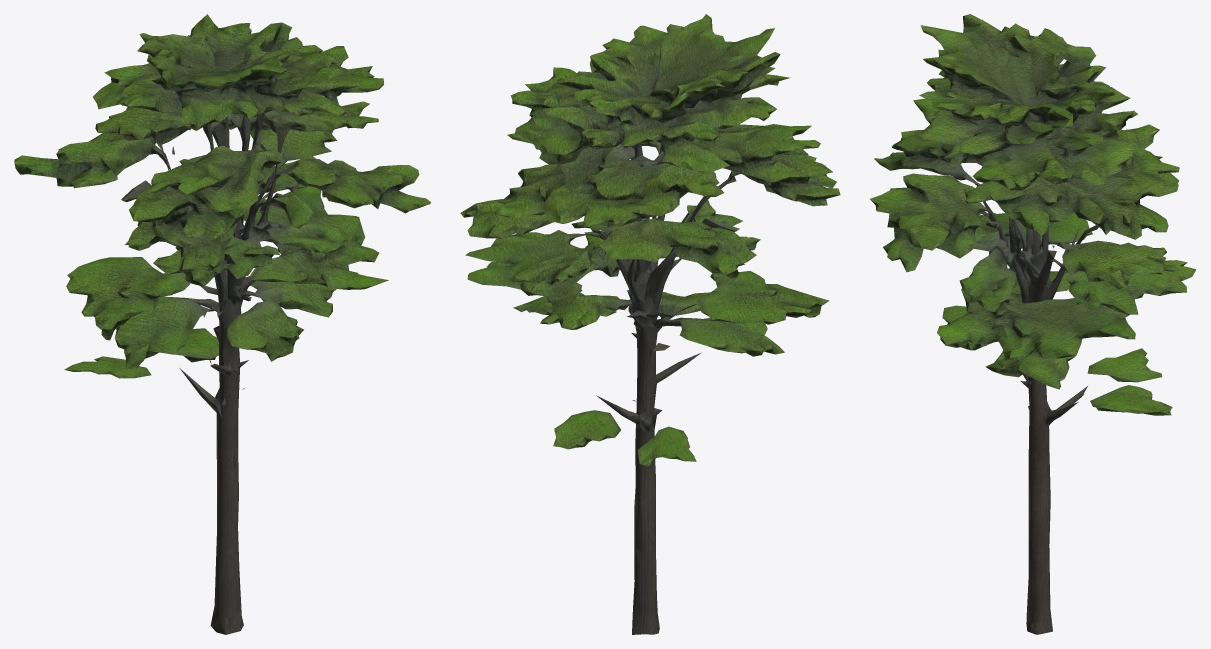
File: tree-pine-r1.glb
The picture shows the model from 3 angles, left to right: view 1: azimuth 30°, elevation 25°; view 2: azimuth 150°, elevation 25°; view 3: azimuth 270°, elevation 25°; orthographic projection. The views are drawn at different scales.
Parts seen in each view (by area): view 1: Mesh; view 2: Mesh; view 3: Mesh.
Part boxes in pixels (box(x1,y1,x2,y2)): Mesh: box(14, 14, 431, 634); Mesh: box(460, 14, 840, 634); Mesh: box(870, 14, 1196, 634).
Size of the model in its own units: 0.918 by 1.71 by 0.8906.
Materials: 1 (1 with a texture image).
